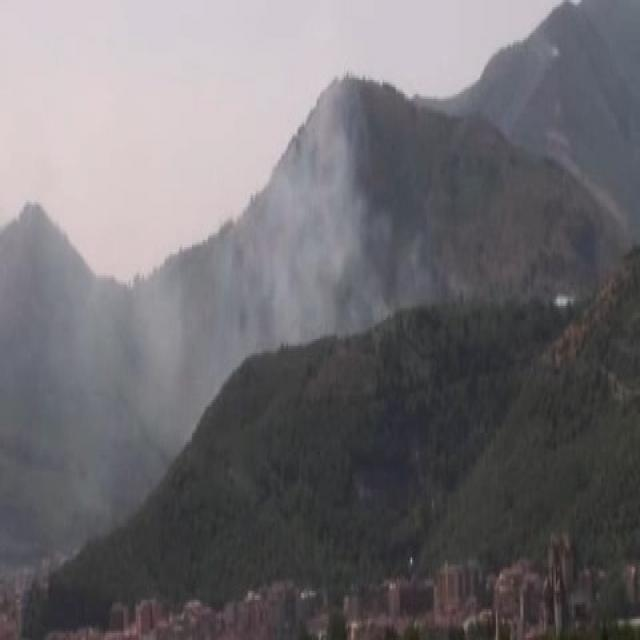smoke: (13, 291, 203, 446), (237, 160, 359, 352)
